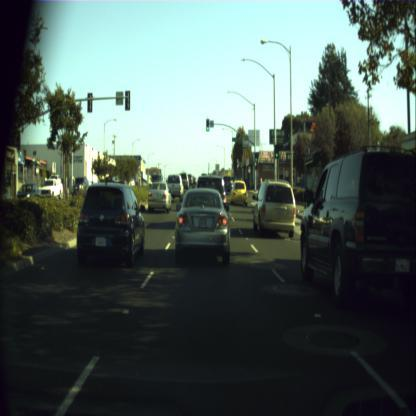Green: (274, 144, 279, 158), (206, 118, 210, 131), (254, 152, 258, 162)
